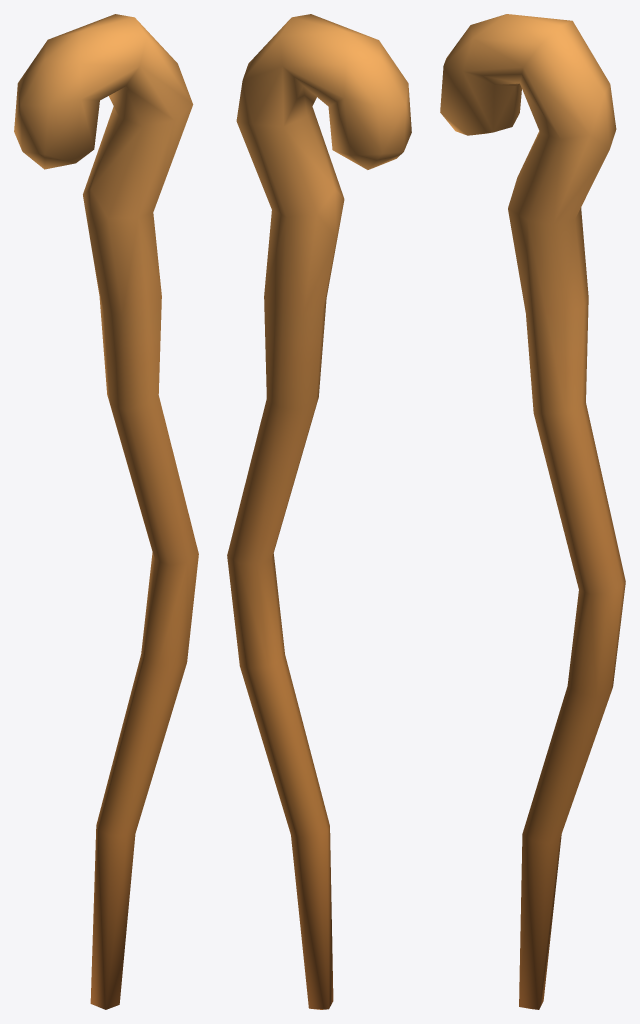
File: DemoniosAukisBaston.fbx
3 renders of one model, left to right at view 1: azimuth 30°, elevation 25°; view 2: azimuth 150°, elevation 25°; view 3: azimuth 330°, elevation 25°, orthographic.
Visible parts, largest first — view 1: AukisBaston; view 2: AukisBaston; view 3: AukisBaston.
Boxes of the visible parts, left/top/right/bottom form: AukisBaston: left=14, top=14, right=198, bottom=1009; AukisBaston: left=227, top=14, right=411, bottom=1009; AukisBaston: left=440, top=14, right=625, bottom=1009.
Size of the model in its own units: 46.68 by 251 by 20.26.
Materials: 1 (1 with a texture image).
